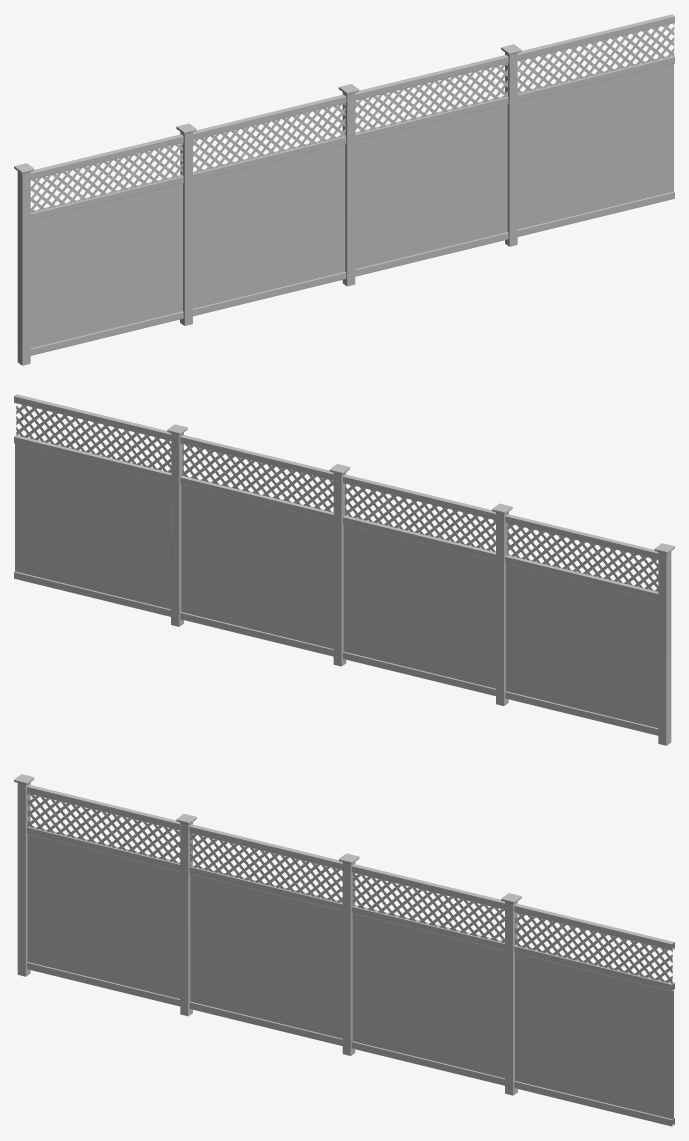
Rendered from OutsideFence_B_800.fbx.
The picture shows the model from 3 angles, top to bottom: view 1: azimuth 30°, elevation 25°; view 2: azimuth 150°, elevation 25°; view 3: azimuth 330°, elevation 25°; orthographic projection.
Visible parts, largest first — view 1: OutsideFence_B_800; view 2: OutsideFence_B_800; view 3: OutsideFence_B_800.
Part boxes in pixels (x1,y1,x2,y2): OutsideFence_B_800: (14, 14, 674, 365); OutsideFence_B_800: (14, 394, 674, 745); OutsideFence_B_800: (14, 774, 674, 1126).
Bounding box in the file's own units: 808 × 230 × 17.2.
